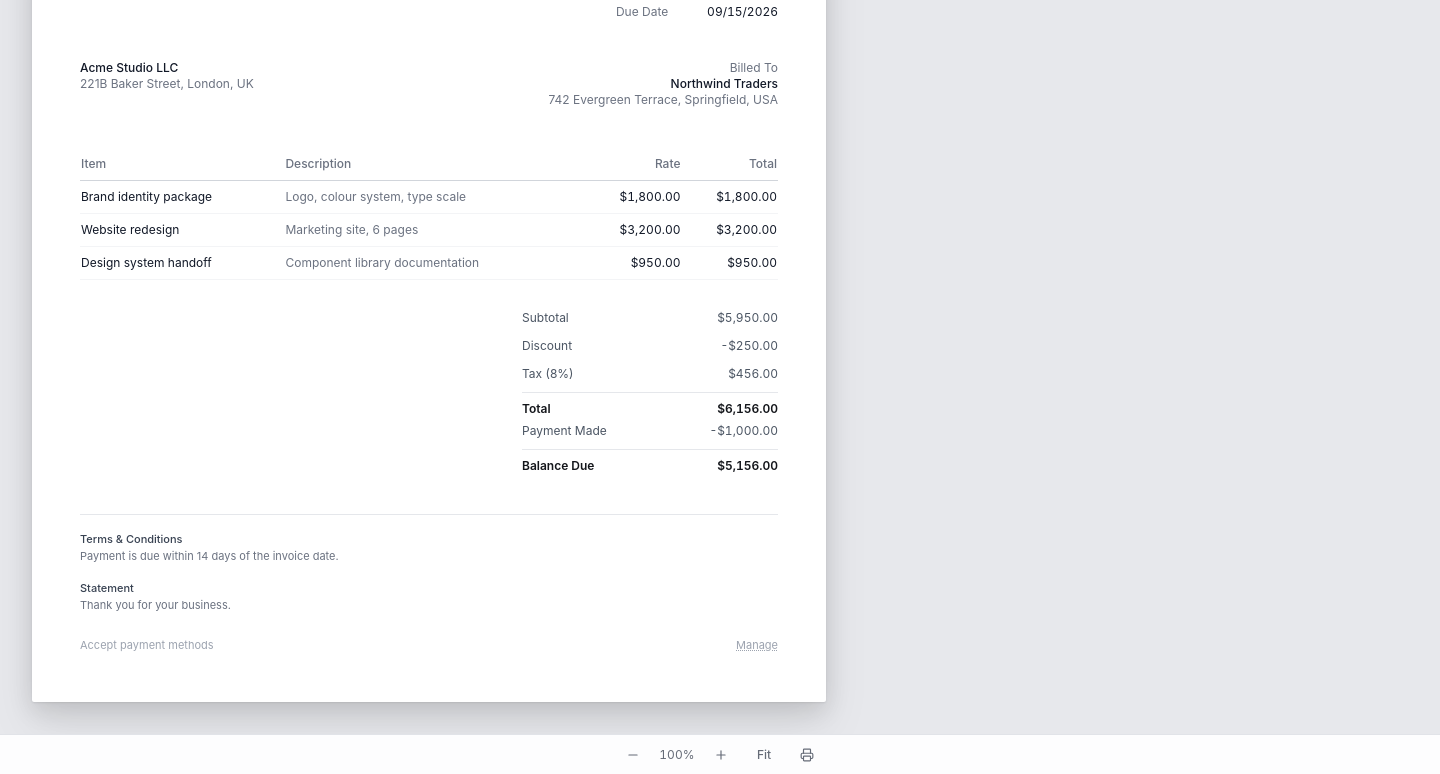
Scenario: PreviewCanvas zoom › Fit click floors at the toolbar minimum zoom, not a separate 30% floor
(page scrolled)
Click the button "Fit": click(764, 754) [745,738,783,770]
(page scrolled)
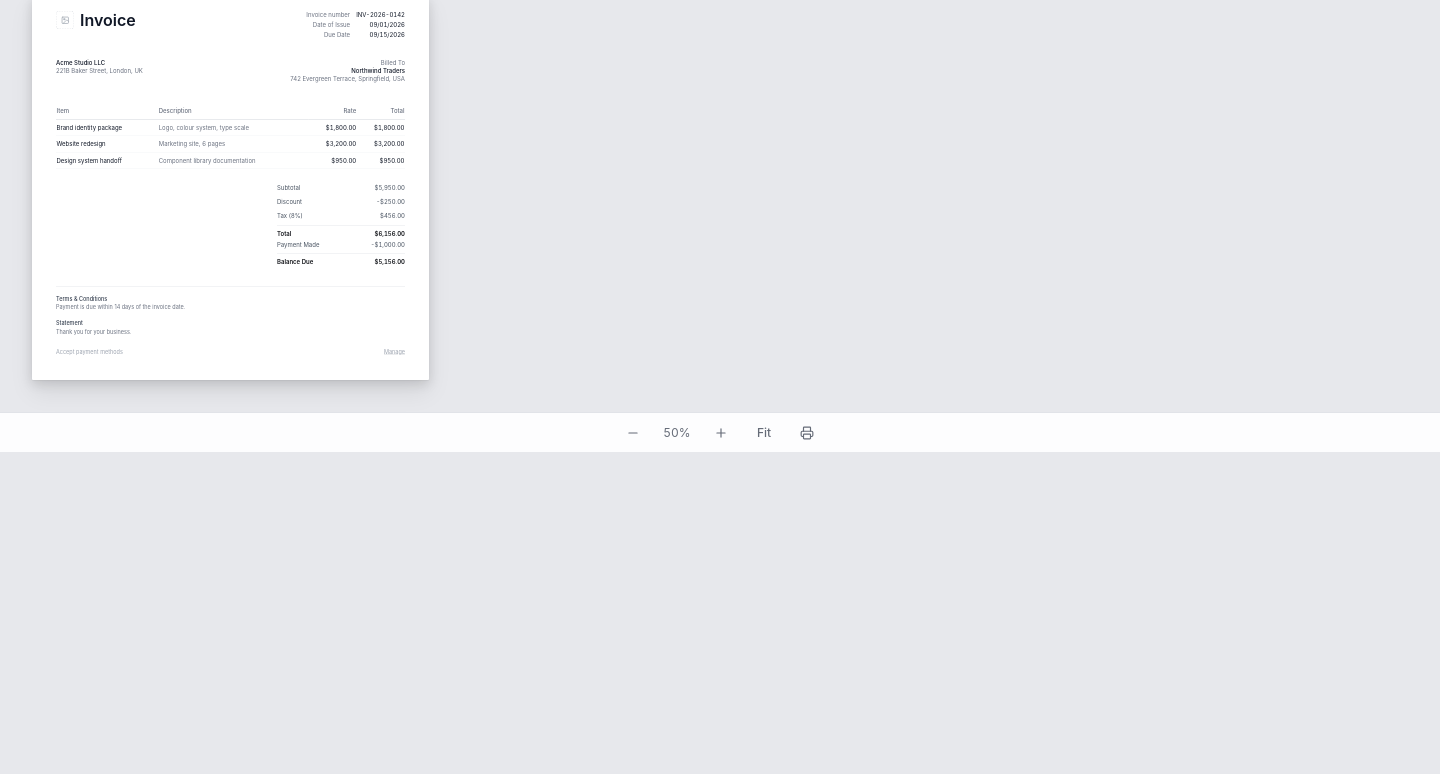
Expected: the text "50%" is shown, [663,424,691,440]
